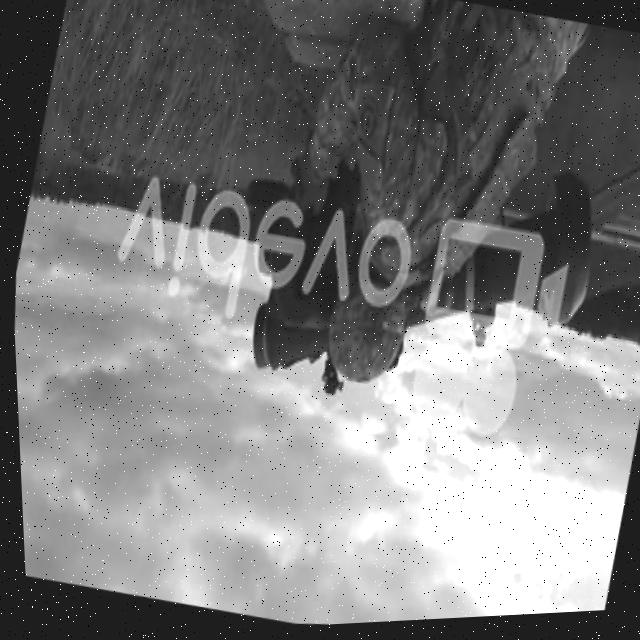rocket: (230, 112, 617, 447)
